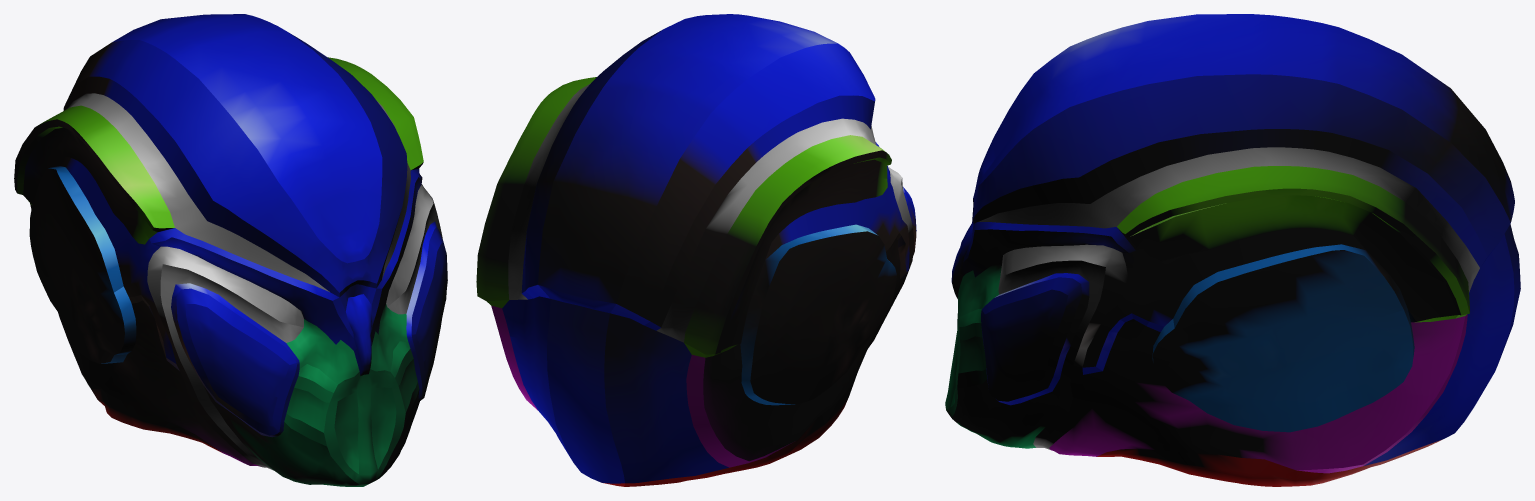
The model's file is Sci-fi Agent Naomi helmet.fbx.
3 views of the same model, side by side, from view 1: azimuth 30°, elevation 25°; view 2: azimuth 150°, elevation 25°; view 3: azimuth 270°, elevation 25° (orthographic). The views are drawn at different scales.
Parts seen in each view (by area): view 1: AgentNaomi_Helmet:AgentNaomi_Helmet_low; view 2: AgentNaomi_Helmet:AgentNaomi_Helmet_low; view 3: AgentNaomi_Helmet:AgentNaomi_Helmet_low.
Part boxes in pixels (bbox=[...]): AgentNaomi_Helmet:AgentNaomi_Helmet_low: bbox=[14, 14, 447, 486]; AgentNaomi_Helmet:AgentNaomi_Helmet_low: bbox=[476, 14, 916, 486]; AgentNaomi_Helmet:AgentNaomi_Helmet_low: bbox=[945, 14, 1520, 486].
Size of the model in its own units: 21.01 by 24.43 by 30.48.
